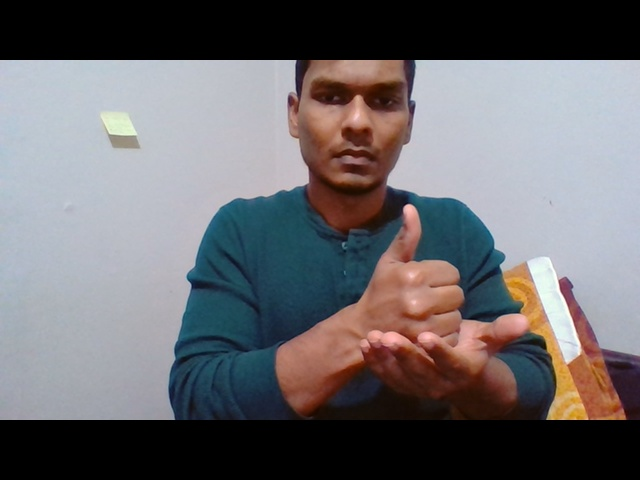Help: (356, 201, 532, 404)
